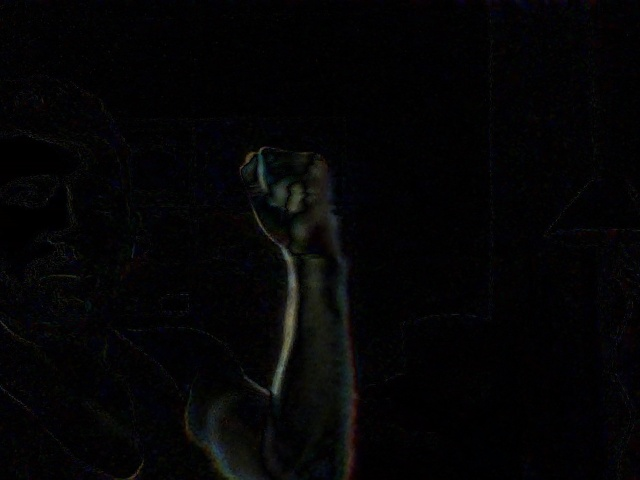hand_fi: (228, 137, 367, 262)
